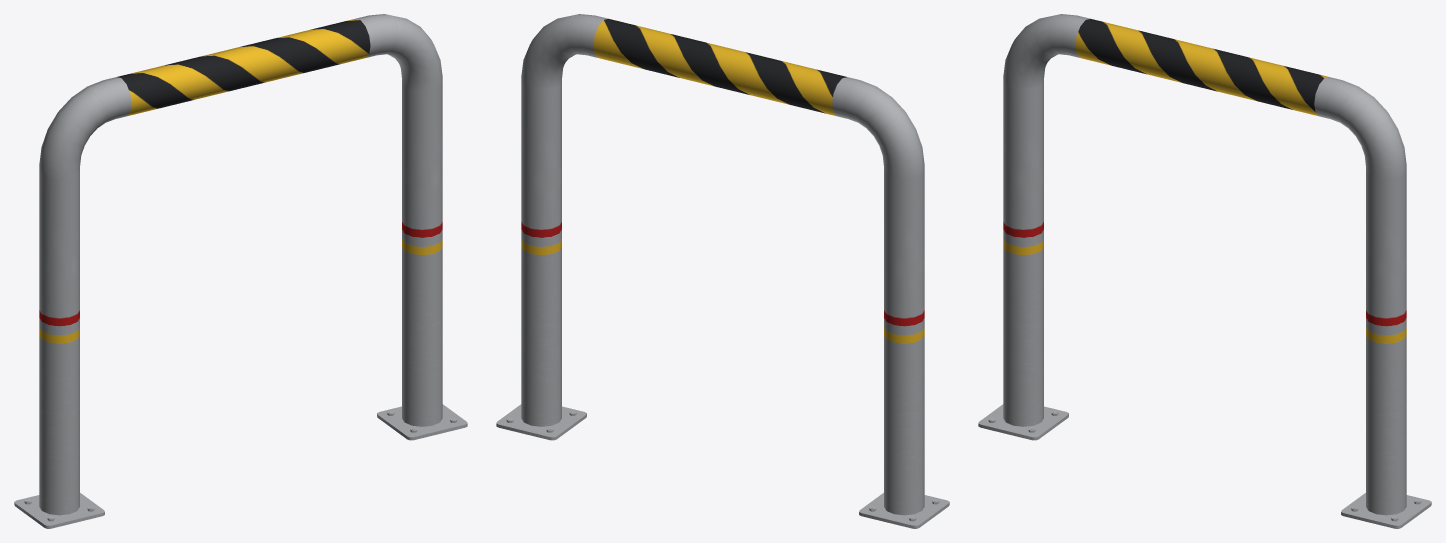
Rendered from SM05_Safety_Bollard_01_U_03.fbx.
The picture shows the model from 3 angles, left to right: view 1: azimuth 30°, elevation 25°; view 2: azimuth 150°, elevation 25°; view 3: azimuth 330°, elevation 25°; orthographic projection.
Parts seen in each view (by area): view 1: SM05_Safety_Bollard_01_U_03; view 2: SM05_Safety_Bollard_01_U_03; view 3: SM05_Safety_Bollard_01_U_03.
Part boxes in pixels (box(x1,y1,x2,y2)): SM05_Safety_Bollard_01_U_03: box(14, 14, 467, 528); SM05_Safety_Bollard_01_U_03: box(496, 14, 949, 528); SM05_Safety_Bollard_01_U_03: box(978, 14, 1431, 528).
Size of the model in its own units: 1.06 by 1 by 0.15.
